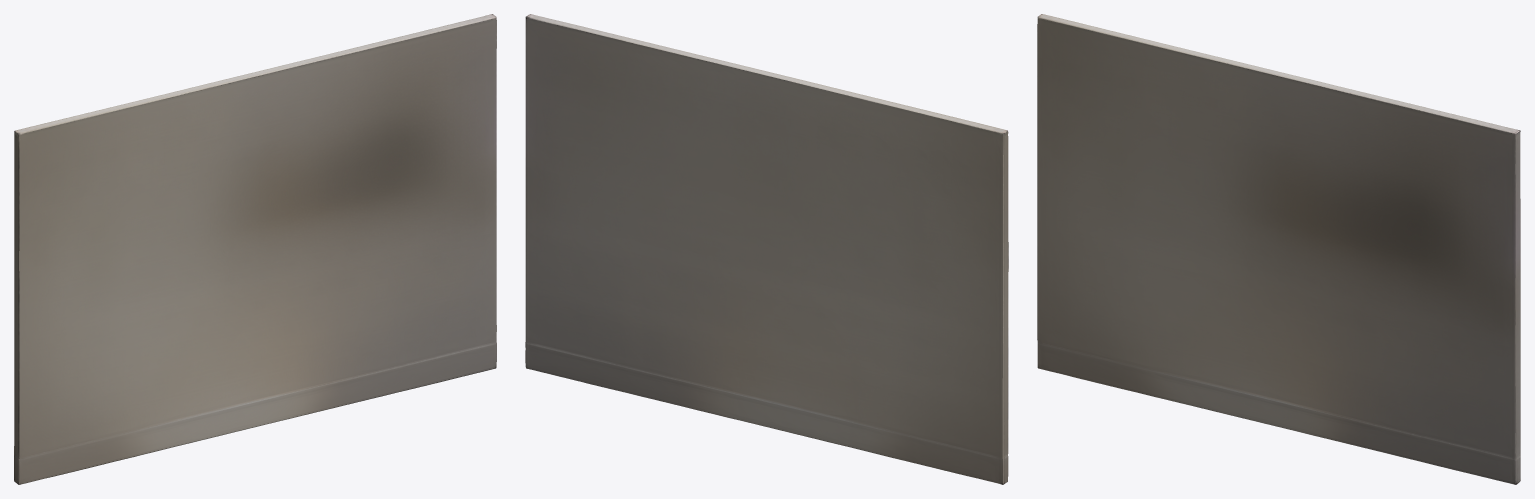
File: plain-wall.glb
3 views of the same model, side by side, from view 1: azimuth 30°, elevation 25°; view 2: azimuth 150°, elevation 25°; view 3: azimuth 330°, elevation 25° (orthographic).
Parts seen in each view (by area): view 1: world; view 2: world; view 3: world.
Boxes of the visible parts, x1=… form: world: x1=14, y1=14, x2=496, y2=484; world: x1=525, y1=14, x2=1008, y2=484; world: x1=1037, y1=14, x2=1520, y2=484.
Bounding box in the file's own units: 1 × 0.7039 × 0.0202.
1 material, 1 textured.
